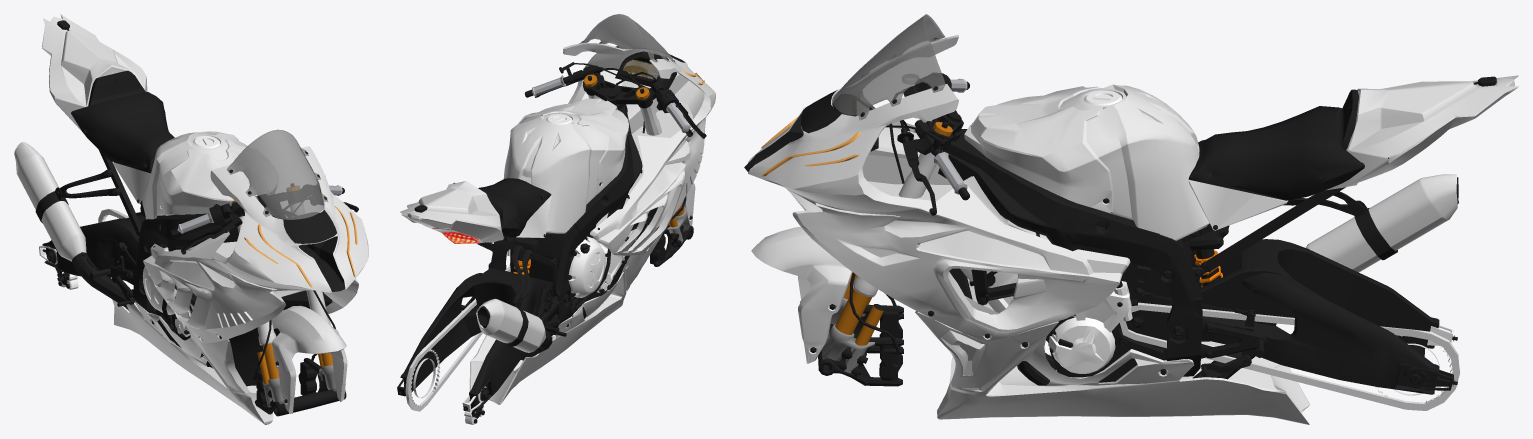
File: Motorcycle 3.fbx
3 renders of one model, left to right at view 1: azimuth 30°, elevation 25°; view 2: azimuth 150°, elevation 25°; view 3: azimuth 270°, elevation 25°, orthographic. The views are drawn at different scales.
Parts seen in each view (by area): view 1: MainBody, Handle System, Rear MudGuard System; view 2: MainBody, Rear MudGuard System, Handle System; view 3: MainBody, Rear MudGuard System, Handle System.
Part boxes in pixels (x1,y1,x2,y2): MainBody: (14, 14, 368, 424); Handle System: (171, 183, 358, 416); Rear MudGuard System: (39, 209, 145, 289); MainBody: (400, 14, 715, 404); Rear MudGuard System: (397, 266, 553, 424); Handle System: (524, 62, 706, 266); MainBody: (744, 14, 1518, 424); Rear MudGuard System: (1119, 239, 1460, 410); Handle System: (751, 73, 969, 386).
Size of the model in its own units: 121 by 195 by 340.
